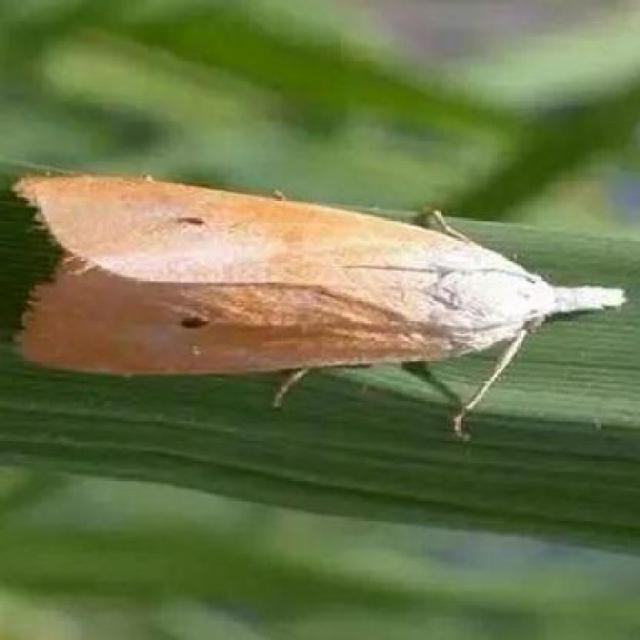stem-borer: (9, 171, 628, 392)
